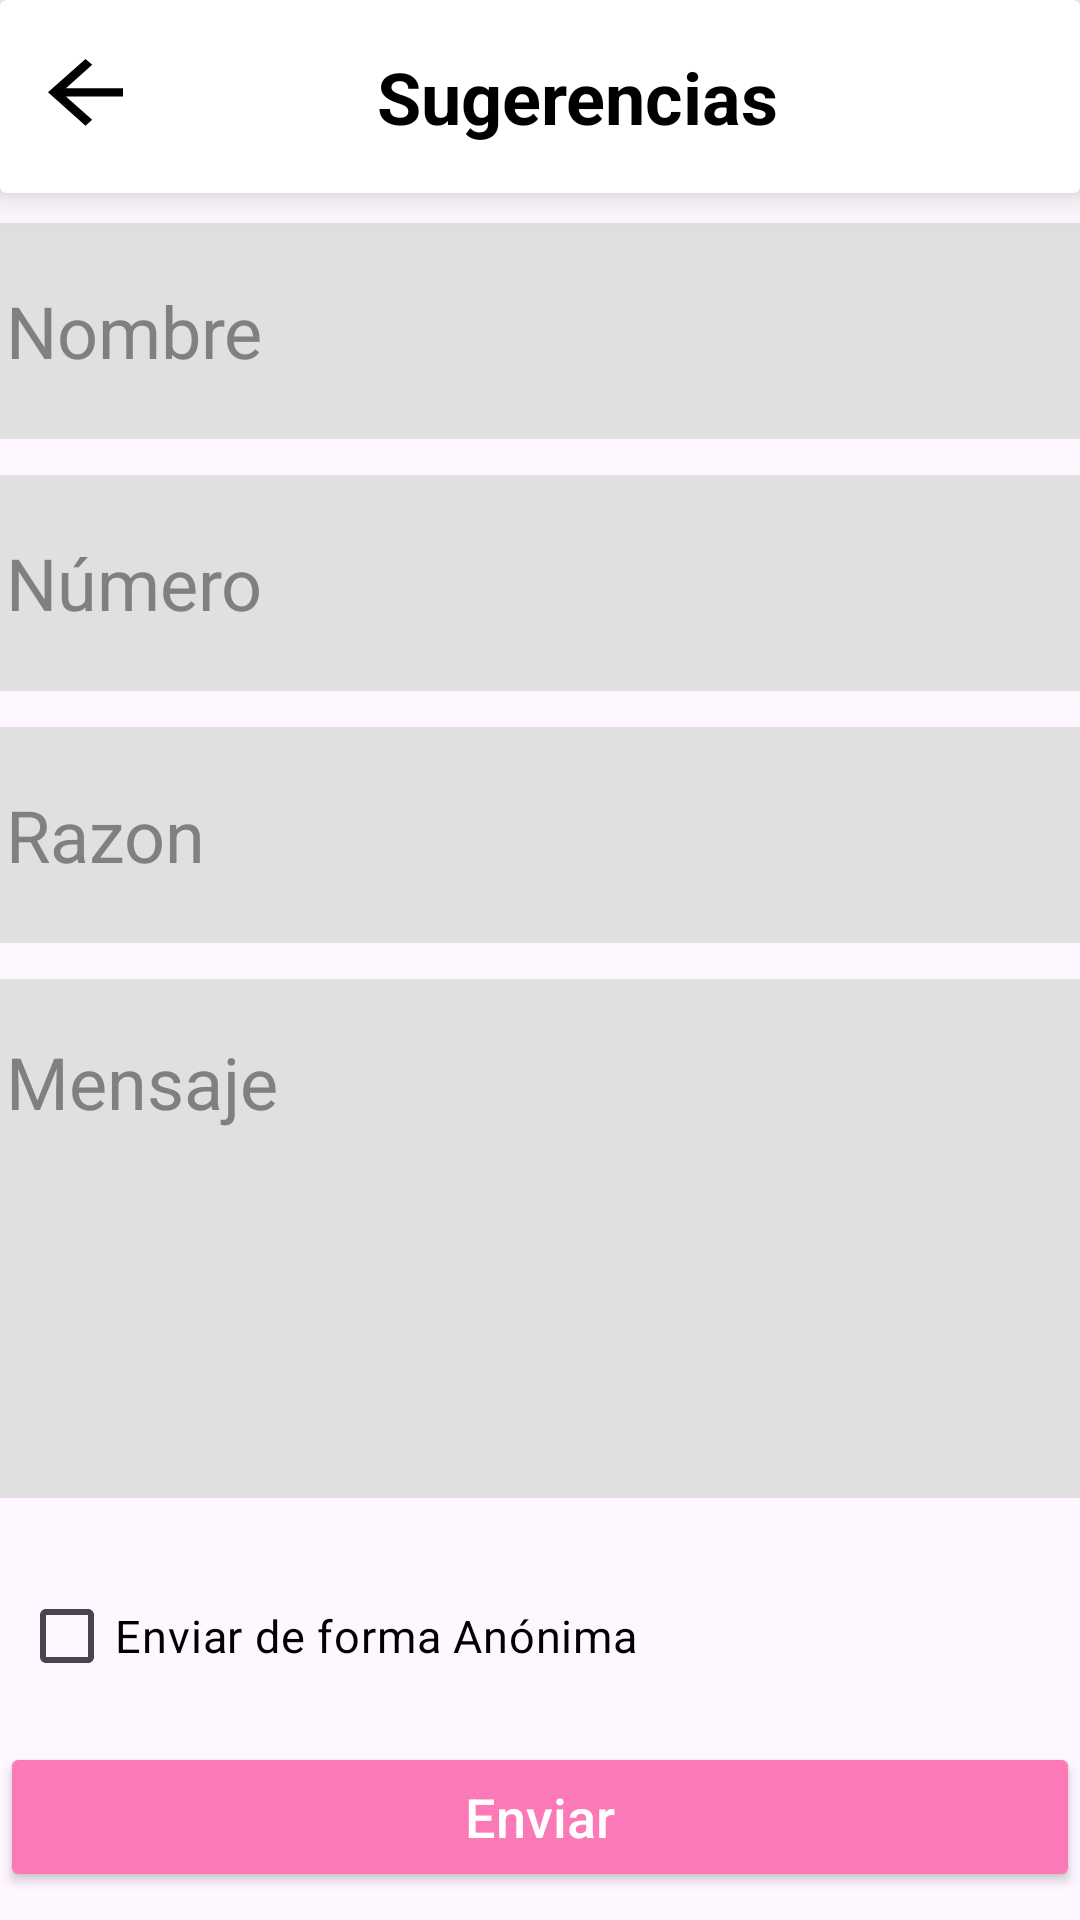

Point at icon controls on the screen. Image size 1080w x 1920h, points as point (x, y).
Retroceder: point (85, 92)
